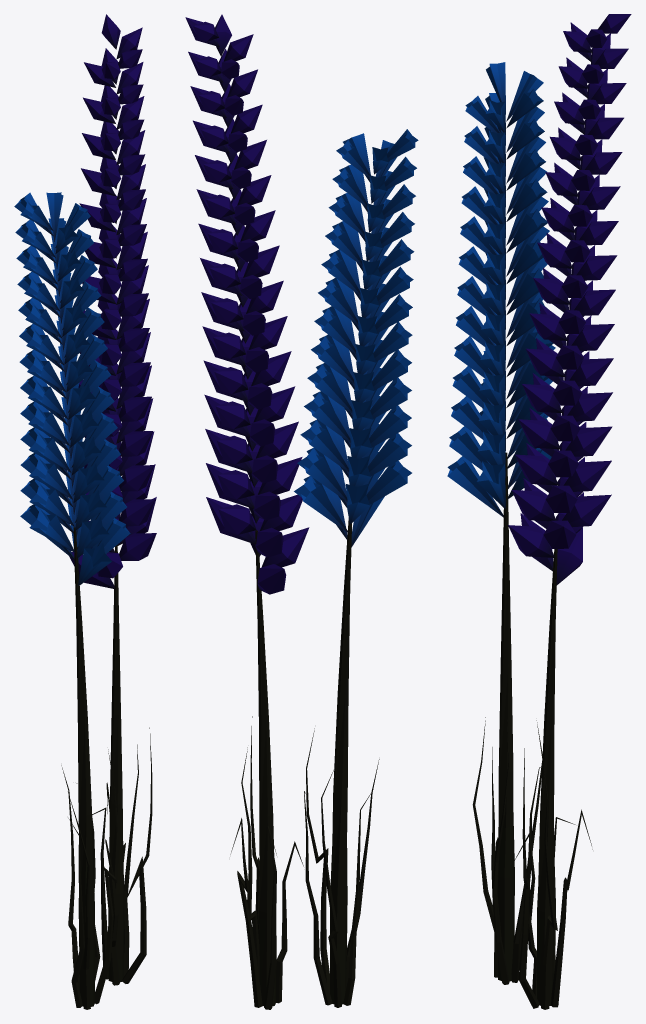
File: Plant-M-5.fbx
3 views of the same model, side by side, from view 1: azimuth 30°, elevation 25°; view 2: azimuth 150°, elevation 25°; view 3: azimuth 270°, elevation 25° (orthographic). The views are drawn at different scales.
Visible parts, largest first — view 1: OUT-Plant; view 2: OUT-Plant; view 3: OUT-Plant.
Boxes of the visible parts, bbox=[...] form: OUT-Plant: bbox=[14, 14, 156, 1009]; OUT-Plant: bbox=[185, 14, 418, 1009]; OUT-Plant: bbox=[447, 14, 631, 1009].
Bounding box in the file's own units: 0.2323 × 1.23 × 0.2041.
